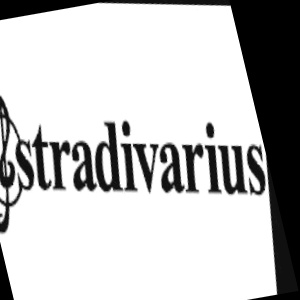stradivarius: (230, 14, 248, 80)
